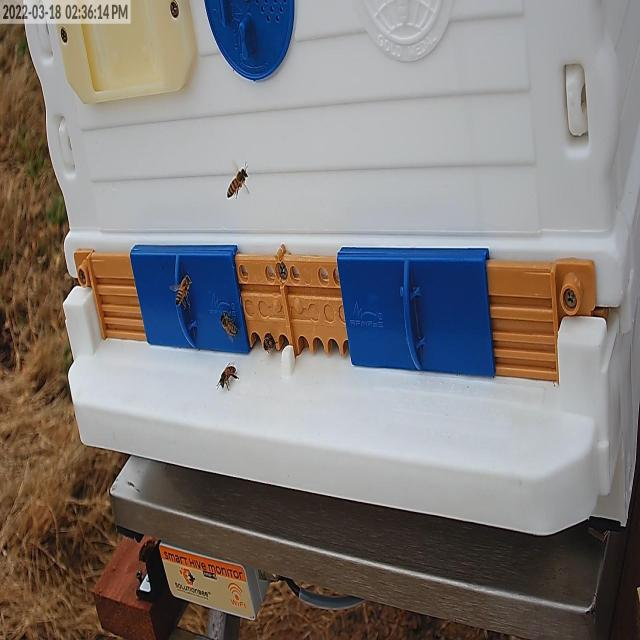honeybee: (223, 168, 250, 200), (220, 308, 242, 344), (175, 267, 192, 313), (218, 363, 236, 394), (261, 332, 278, 355)
